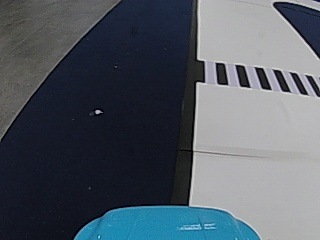CrossWalk: (201, 61, 315, 94)
